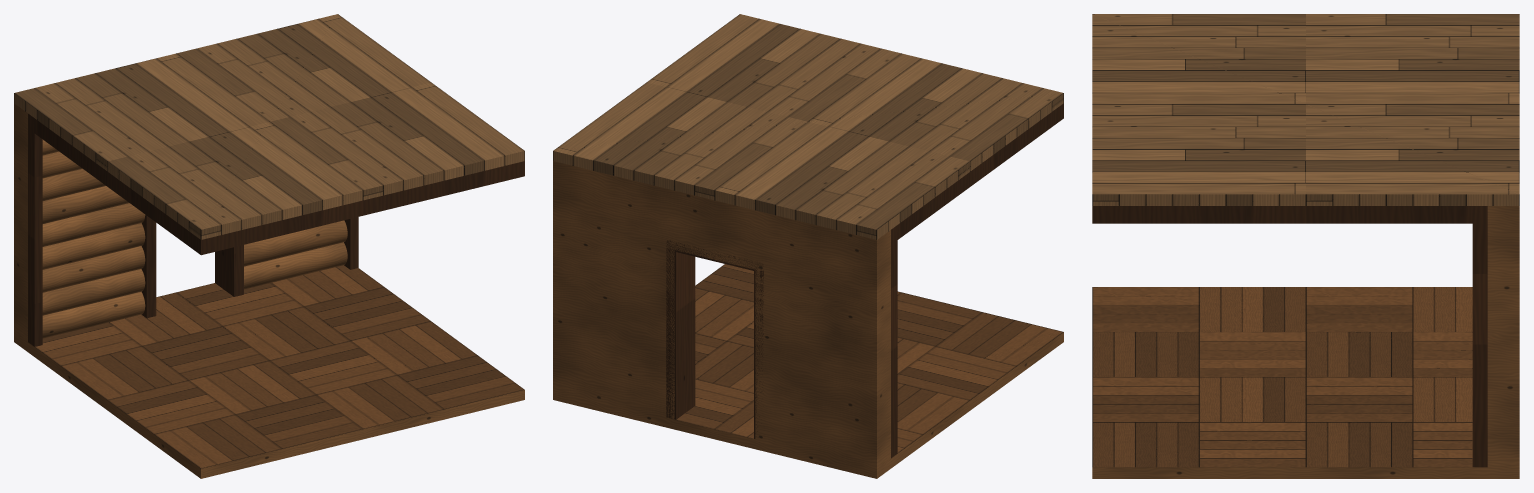
File: Room_Cabin_Door.glb
3 renders of one model, left to right at view 1: azimuth 30°, elevation 25°; view 2: azimuth 150°, elevation 25°; view 3: azimuth 270°, elevation 25°, orthographic. The views are drawn at different scales.
Parts seen in each view (by area): view 1: Room_Cabin_Door, Room_Cabin_Door_Ceiling; view 2: Room_Cabin_Door, Room_Cabin_Door_Ceiling; view 3: Room_Cabin_Door_Ceiling, Room_Cabin_Door.
Boxes of the visible parts, box(x1,y1,x2,y2) form: Room_Cabin_Door: box(14, 103, 524, 478); Room_Cabin_Door_Ceiling: box(14, 14, 524, 255); Room_Cabin_Door: box(553, 161, 1063, 478); Room_Cabin_Door_Ceiling: box(553, 14, 1063, 244); Room_Cabin_Door_Ceiling: box(1092, 14, 1519, 223); Room_Cabin_Door: box(1092, 206, 1519, 478).
Size of the model in its own units: 4 by 2.94 by 4.
Materials: 7 (5 with a texture image).
